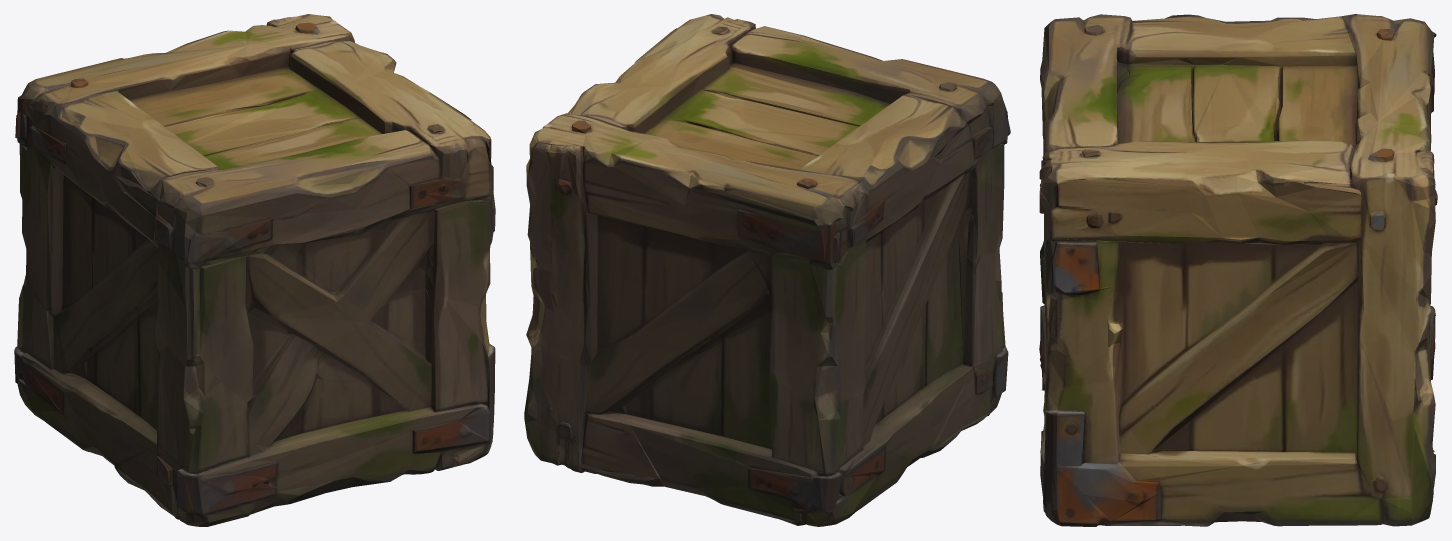
The model's file is crate.glb.
3 views of the same model, side by side, from view 1: azimuth 30°, elevation 25°; view 2: azimuth 150°, elevation 25°; view 3: azimuth 270°, elevation 25° (orthographic). The views are drawn at different scales.
Parts seen in each view (by area): view 1: world; view 2: world; view 3: world.
Part boxes in pixels (x1=…): world: x1=14, y1=14, x2=495, y2=526; world: x1=524, y1=14, x2=1010, y2=526; world: x1=1039, y1=14, x2=1437, y2=526.
Size of the model in its own units: 0.9745 by 0.9899 by 0.9779.
1 material, 1 textured.
